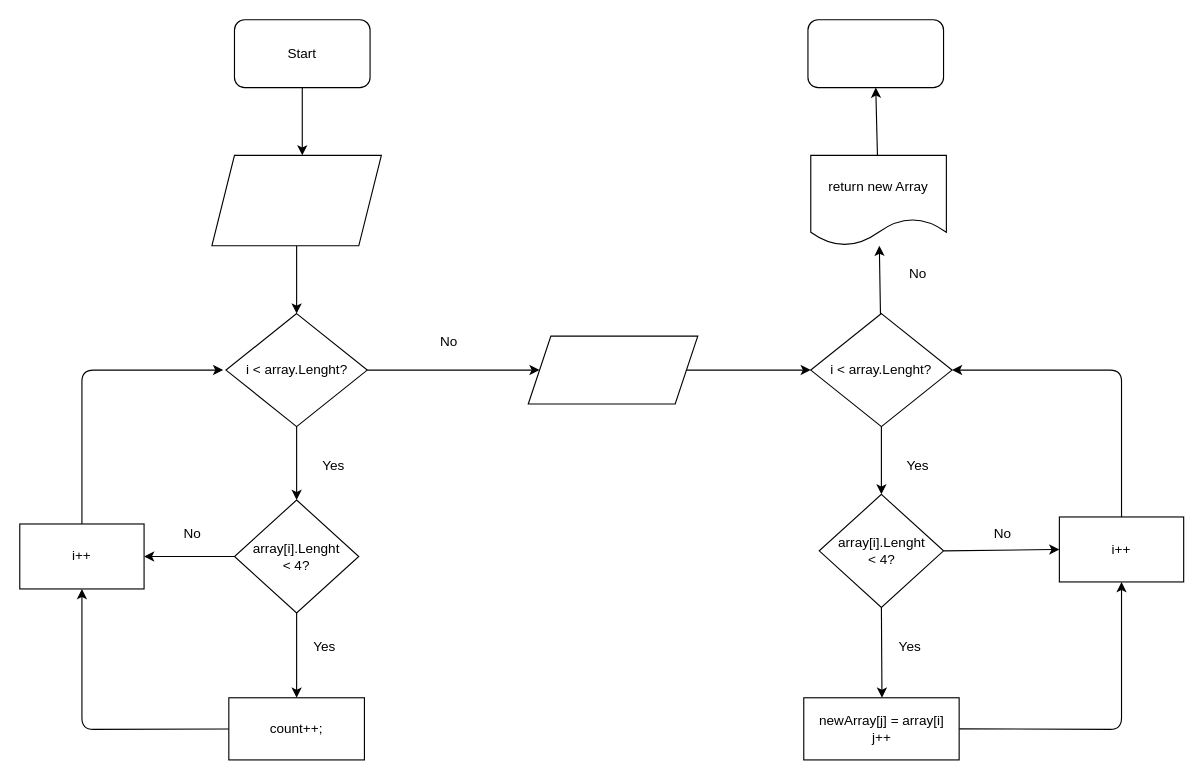
Some shapes in this 1203 by 780 pixel diagram are drawn without their labels. The shapes that lost their labels are listed below. From the top down, each one's centre as x and y in pixels, then its label:
At (875,53): "End".
At (296,200): "count = 0; array; i = 0;".
At (612,369): "newArray [count] j = 0".
